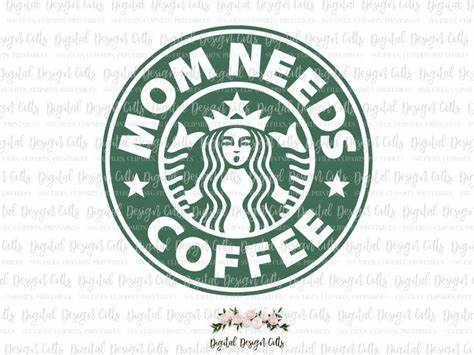starbucks Fake: (94, 19, 382, 299)
